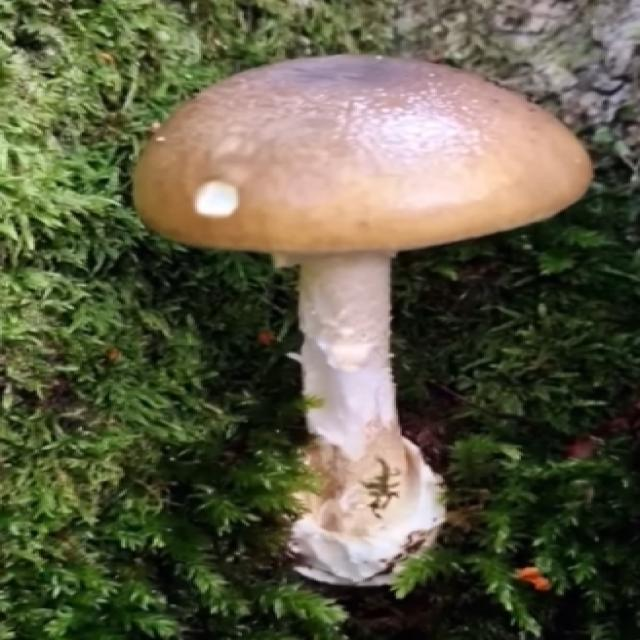death-cap: (131, 54, 595, 590)
